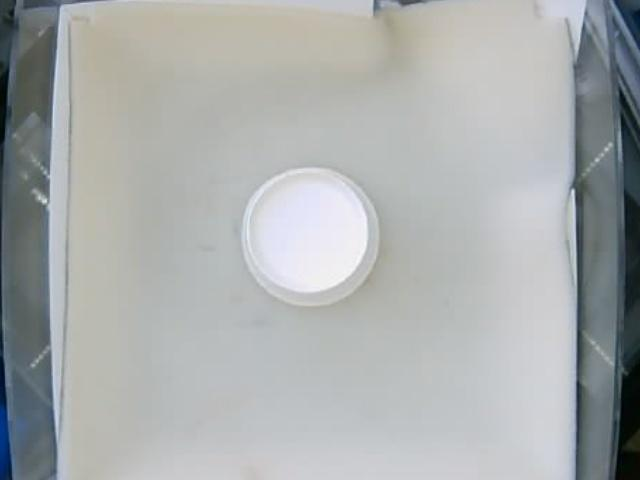Cup: (243, 169, 381, 309)
